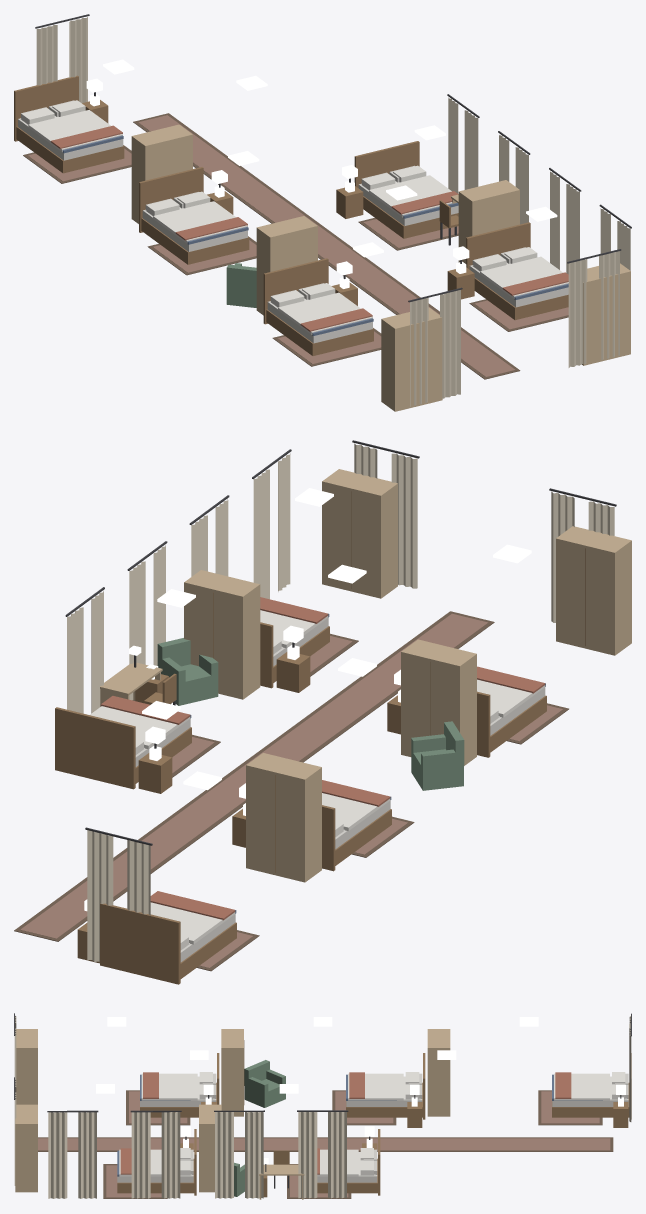
Rendered from fine-s2.glb.
The picture shows the model from 3 angles, top to bottom: view 1: azimuth 30°, elevation 25°; view 2: azimuth 150°, elevation 25°; view 3: azimuth 270°, elevation 25°; orthographic projection. The views are drawn at different scales.
Parts seen in each view (by area): view 1: soft-s2, dresser.009, bed-frame.009, bed-frame.008, bed-frame.007, bed-frame.006, bed-frame.005, dresser.006, dresser.008, dresser.007, dresser.005, lounge-chair.003 (+2 smaller); view 2: soft-s2, dresser.007, dresser.009, dresser.006, dresser.005, dresser.008, bed-frame.007, bed-frame.005, lounge-chair.003, lounge-chair.002, bed-frame.008, bed-frame.009 (+4 smaller); view 3: soft-s2, dresser.006, dresser.008, dresser.007, dresser.009, bed-frame.008, lounge-chair.003, dresser.005, bed-frame.007, bed-frame.009, bed-frame.006, bed-frame.005 (+5 smaller).
Part boxes in pixels (<box>): soft-s2: <box>21,14,631,406</box>; dresser.009: <box>381,307,442,411</box>; bed-frame.009: <box>263,258,373,355</box>; bed-frame.008: <box>139,167,249,264</box>; bed-frame.007: <box>14,75,124,173</box>; bed-frame.006: <box>466,222,568,320</box>; bed-frame.005: <box>354,141,458,238</box>; dresser.006: <box>581,263,630,365</box>; dresser.008: <box>256,216,317,315</box>; dresser.007: <box>131,124,192,223</box>; dresser.005: <box>458,180,519,263</box>; lounge-chair.003: <box>226,263,256,307</box>; soft-s2: <box>14,440,616,971</box>; dresser.007: <box>246,753,321,882</box>; dresser.009: <box>556,526,631,655</box>; dresser.006: <box>322,469,397,598</box>; dresser.005: <box>184,570,260,699</box>; dresser.008: <box>401,639,476,765</box>; bed-frame.007: <box>100,903,236,984</box>; bed-frame.005: <box>55,707,191,789</box>; lounge-chair.003: <box>411,721,464,790</box>; lounge-chair.002: <box>157,638,218,705</box>; bed-frame.008: <box>322,796,391,871</box>; bed-frame.009: <box>477,683,546,757</box>; soft-s2: <box>14,1013,631,1198</box>; dresser.006: <box>15,1104,37,1192</box>; dresser.008: <box>221,1029,244,1116</box>; dresser.007: <box>427,1029,450,1116</box>; dresser.009: <box>16,1029,37,1104</box>; bed-frame.008: <box>346,1053,425,1119</box>; lounge-chair.003: <box>244,1060,285,1107</box>; dresser.005: <box>199,1104,221,1192</box>; bed-frame.007: <box>552,1053,631,1119</box>; bed-frame.009: <box>140,1053,219,1117</box>; bed-frame.006: <box>117,1129,196,1195</box>; bed-frame.005: <box>317,1129,380,1195</box>.
Size of the model in its own units: 6.88 by 2.65 by 16.35.
